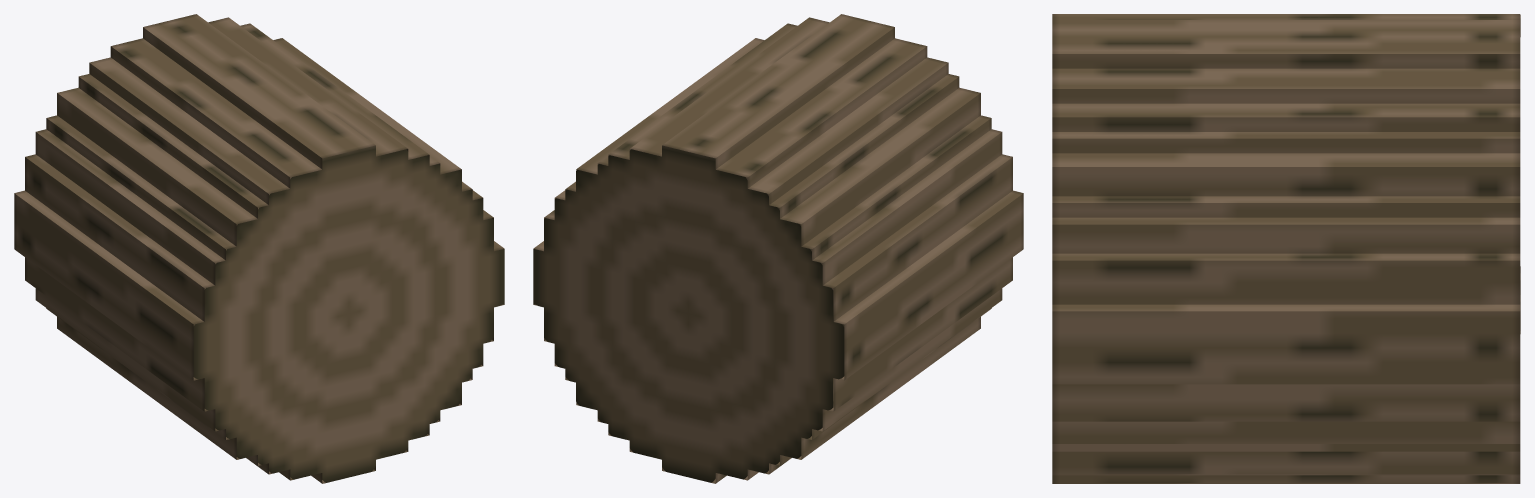
The model's file is Log.fbx.
The picture shows the model from 3 angles, left to right: view 1: azimuth 30°, elevation 25°; view 2: azimuth 150°, elevation 25°; view 3: azimuth 270°, elevation 25°; orthographic projection. The views are drawn at different scales.
Visible parts, largest first — view 1: Log; view 2: Log; view 3: Log.
Part boxes in pixels (box(x1,y1,x2,y2)): Log: box(14, 14, 504, 483); Log: box(533, 14, 1023, 483); Log: box(1052, 14, 1520, 483).
Size of the model in its own units: 2.01 by 2.01 by 2.01.
Materials: 1 (1 with a texture image).
